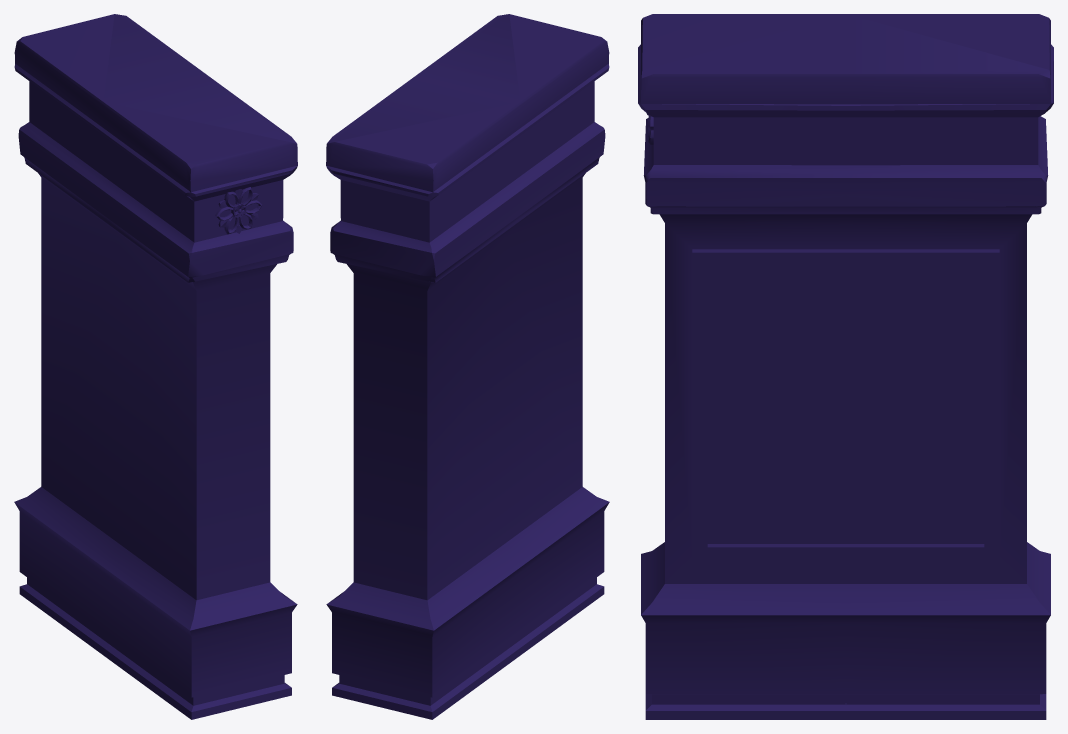
File: SM_gateSQwall.fbx
The picture shows the model from 3 angles, left to right: view 1: azimuth 30°, elevation 25°; view 2: azimuth 150°, elevation 25°; view 3: azimuth 270°, elevation 25°; orthographic projection. The views are drawn at different scales.
Parts seen in each view (by area): view 1: SM_gateSQwall003, SM_gateSQwall001.fbx, SM_gateSQwall002; view 2: SM_gateSQwall003, SM_gateSQwall001.fbx; view 3: SM_gateSQwall003, SM_gateSQwall001.fbx.
Part boxes in pixels (<box>): SM_gateSQwall003: <box>14,173,297,719</box>; SM_gateSQwall001.fbx: <box>14,14,297,282</box>; SM_gateSQwall002: <box>215,187,262,234</box>; SM_gateSQwall003: <box>326,173,609,719</box>; SM_gateSQwall001.fbx: <box>326,14,609,282</box>; SM_gateSQwall003: <box>641,214,1050,719</box>; SM_gateSQwall001.fbx: <box>638,14,1053,214</box>.
Size of the model in its own units: 162 by 771 by 448.
